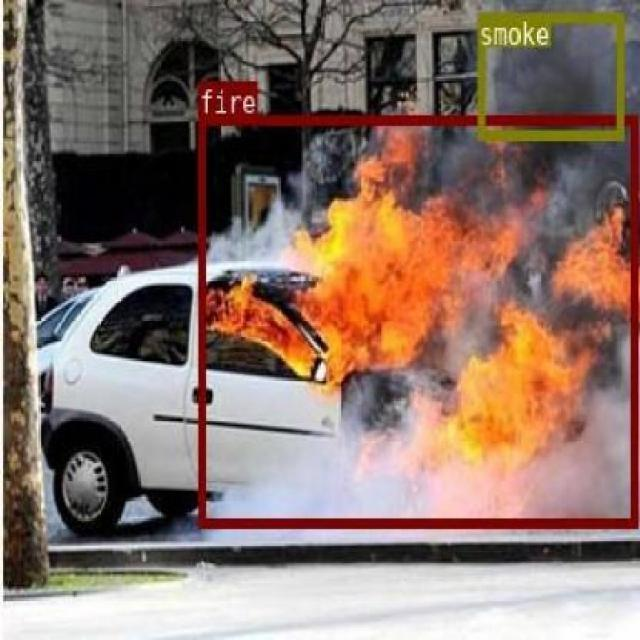fire: (197, 113, 637, 527)
smoke: (477, 11, 622, 137)
